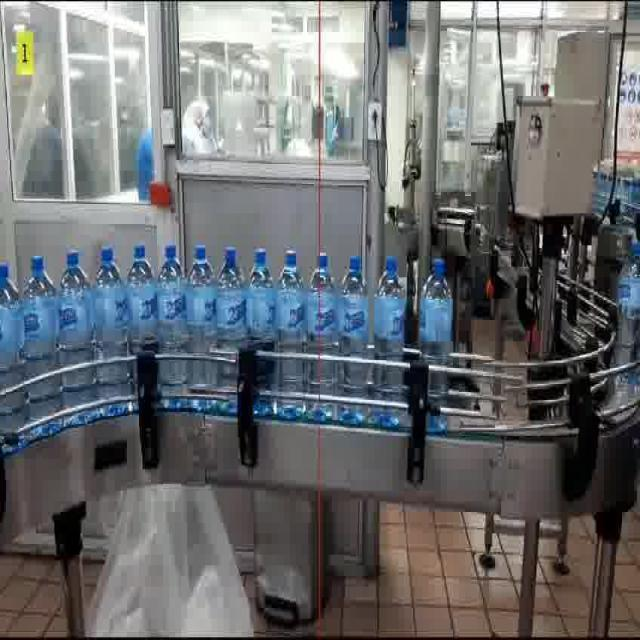bottle: (277, 240, 317, 416), (18, 253, 58, 426), (416, 257, 455, 434), (89, 244, 130, 397), (372, 252, 411, 404), (308, 254, 344, 409), (57, 252, 92, 410), (341, 258, 375, 418), (157, 240, 191, 396), (245, 240, 281, 370), (123, 242, 158, 352), (213, 244, 247, 345)
